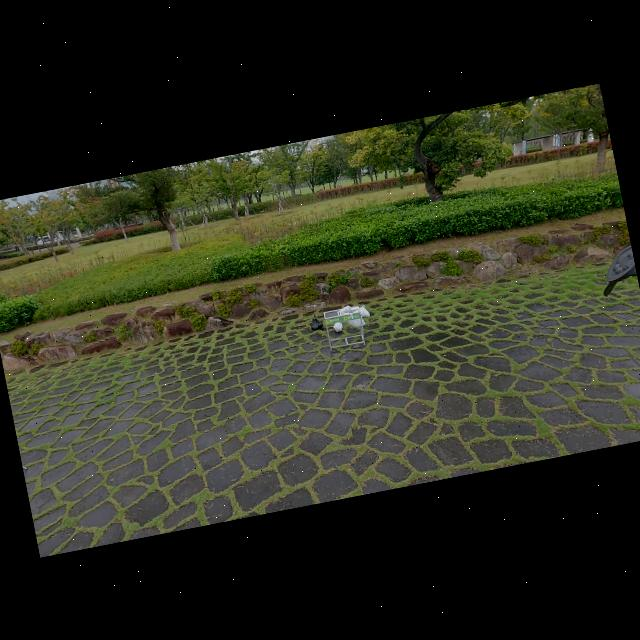trash: (308, 314, 325, 332), (356, 302, 372, 319), (331, 319, 346, 334)
